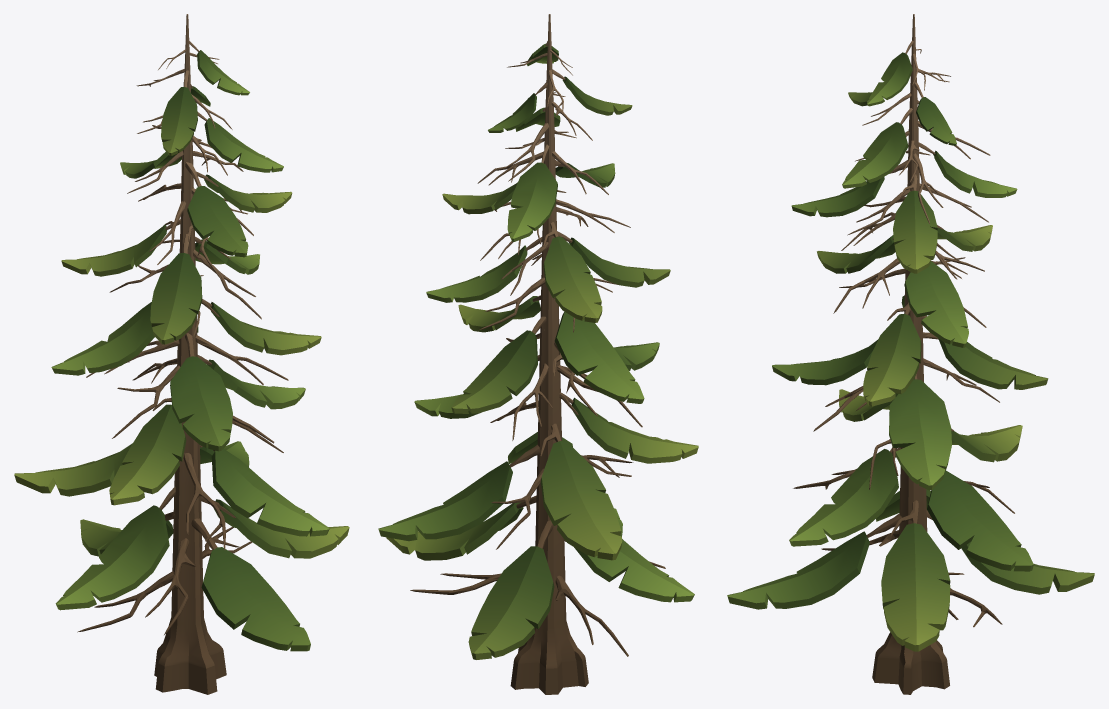
File: Tree_03.fbx
3 views of the same model, side by side, from view 1: azimuth 30°, elevation 25°; view 2: azimuth 150°, elevation 25°; view 3: azimuth 270°, elevation 25° (orthographic).
Parts seen in each view (by area): view 1: Tree_03_LOD0; view 2: Tree_03_LOD0; view 3: Tree_03_LOD0.
Boxes of the visible parts, <box> form: Tree_03_LOD0: <box>14,14,349,694</box>; Tree_03_LOD0: <box>378,14,698,694</box>; Tree_03_LOD0: <box>727,14,1094,694</box>.
Size of what is drawn, in the model's own units: 3.85 by 8.14 by 4.09.
